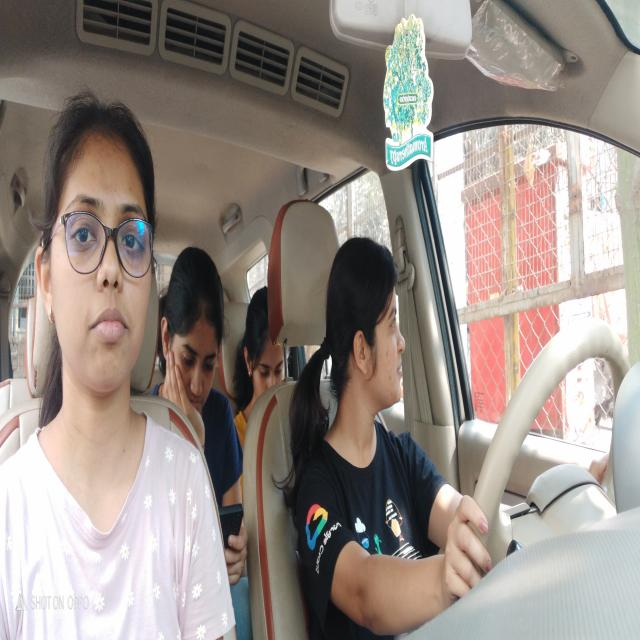LeftRight: (324, 231, 412, 434)
person: (37, 90, 158, 407), (162, 247, 226, 422), (242, 279, 288, 409)
